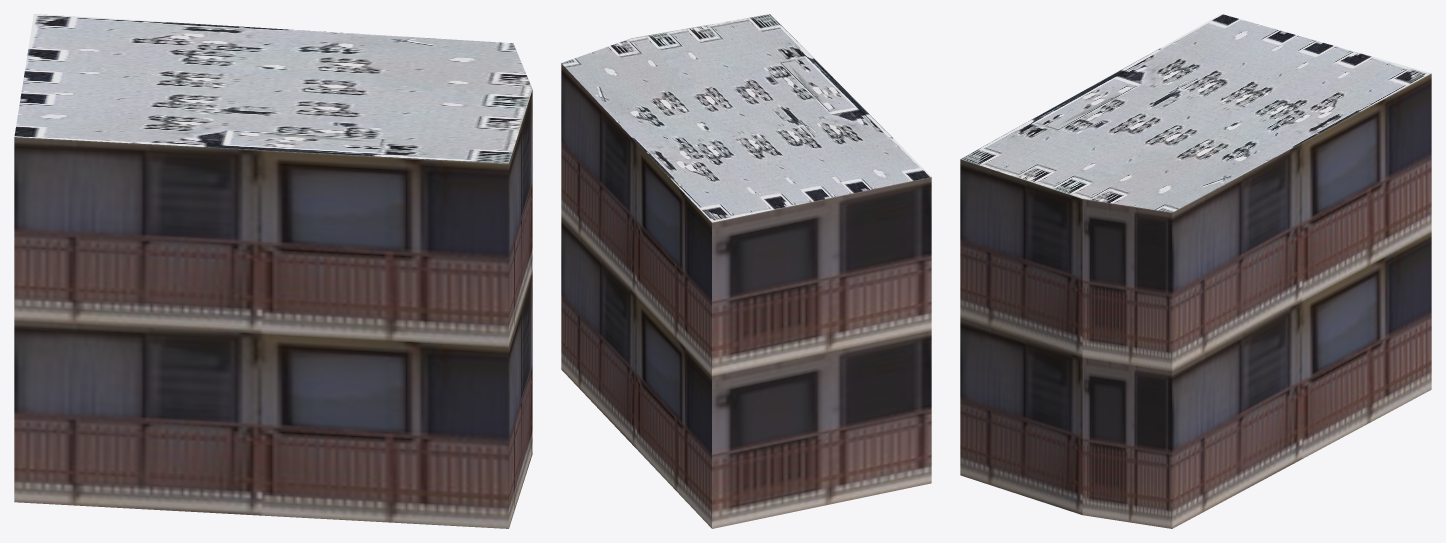
The model's file is ResTex__3713.fbx.
3 renders of one model, left to right at view 1: azimuth 30°, elevation 25°; view 2: azimuth 150°, elevation 25°; view 3: azimuth 270°, elevation 25°, orthographic. The views are drawn at different scales.
Visible parts, largest first — view 1: CityEngineMaterial_6_m, CityEngineMaterial_4_m; view 2: CityEngineMaterial_6_m, CityEngineMaterial_4_m; view 3: CityEngineMaterial_6_m, CityEngineMaterial_4_m.
Part boxes in pixels (x1=…): CityEngineMaterial_6_m: x1=14, y1=89, x2=532, y2=528; CityEngineMaterial_4_m: x1=14, y1=14, x2=532, y2=163; CityEngineMaterial_6_m: x1=561, y1=63, x2=931, y2=528; CityEngineMaterial_4_m: x1=561, y1=14, x2=931, y2=222; CityEngineMaterial_6_m: x1=960, y1=73, x2=1431, y2=528; CityEngineMaterial_4_m: x1=960, y1=14, x2=1431, y2=212.
Size of the model in its own units: 8.09 by 6 by 8.11.
2 materials, 2 textured.
